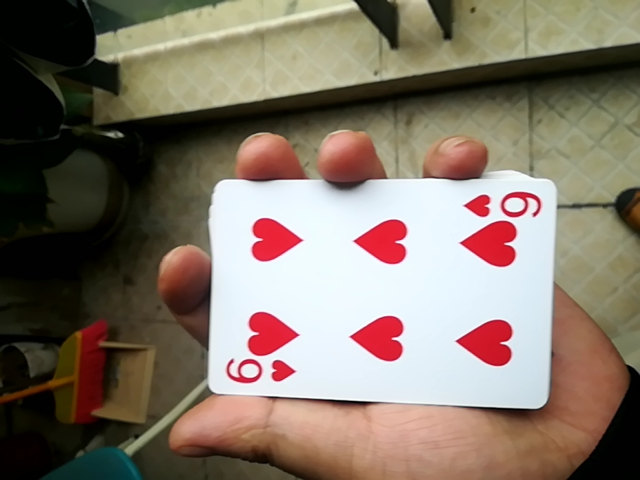hx 6: (199, 172, 557, 411)
